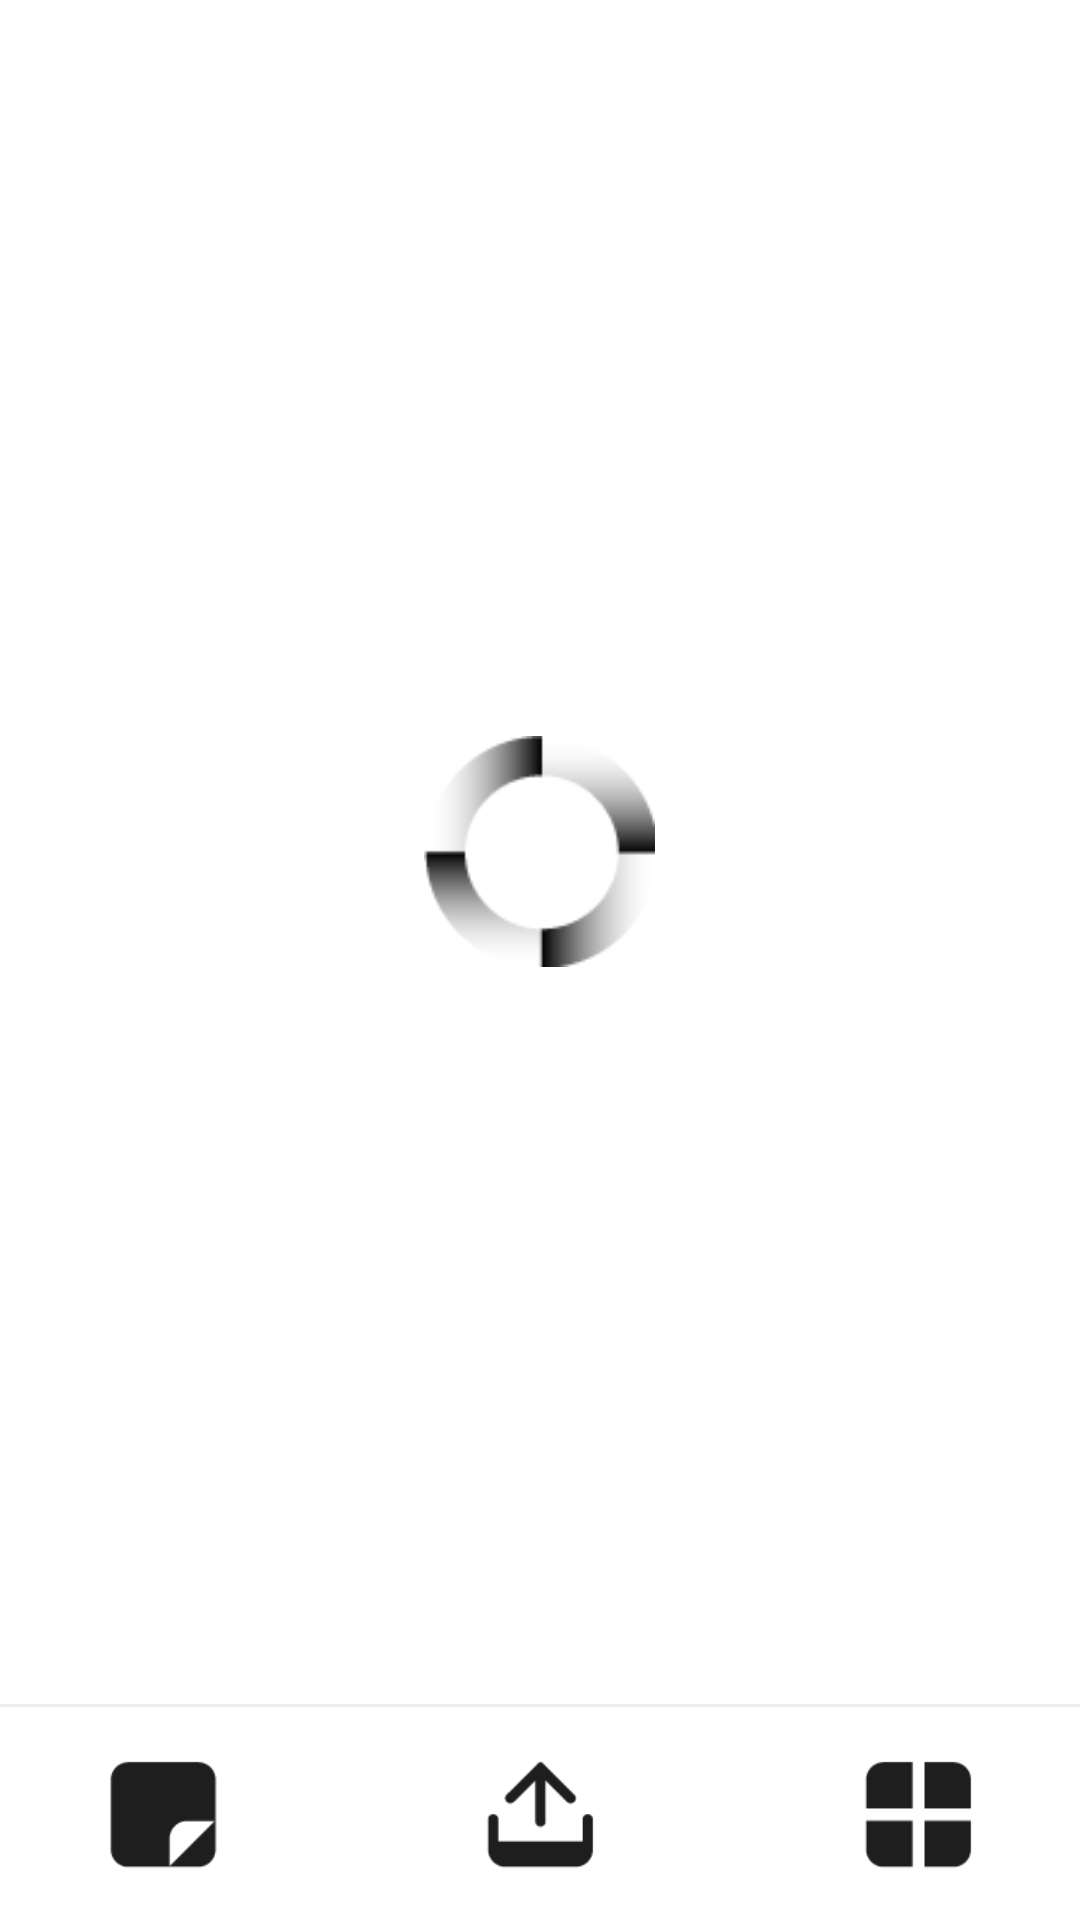

Named icons in this screenshot (1080 x 1920) and their centers, [x,y]:
loading: [539,851]
